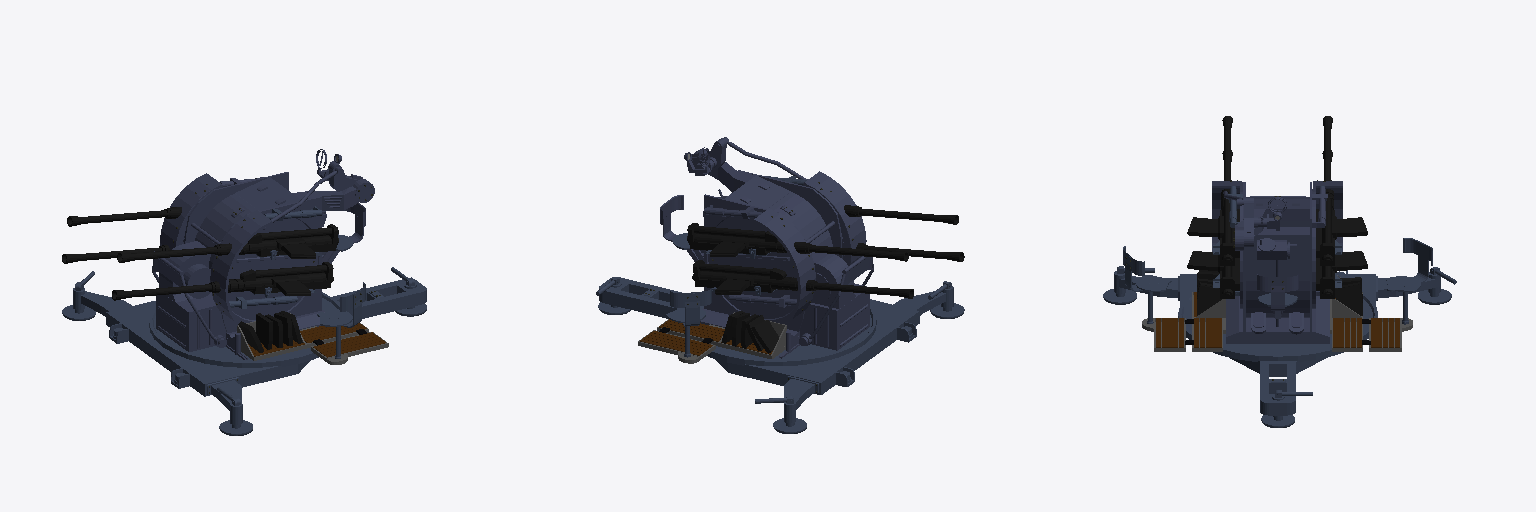
Rendered from Antiaircraft_gun.obj.
3 views of the same model, side by side, from view 1: azimuth 30°, elevation 25°; view 2: azimuth 150°, elevation 25°; view 3: azimuth 270°, elevation 25° (orthographic).
Visible parts, largest first — view 1: polySurface268; view 2: polySurface268; view 3: polySurface268.
Part boxes in pixels (x1,y1,x2,y2): polySurface268: (62,149,426,435); polySurface268: (596,137,964,433); polySurface268: (1103,116,1456,427).
Bounding box in the file's own units: 26.24 × 13.56 × 23.87.